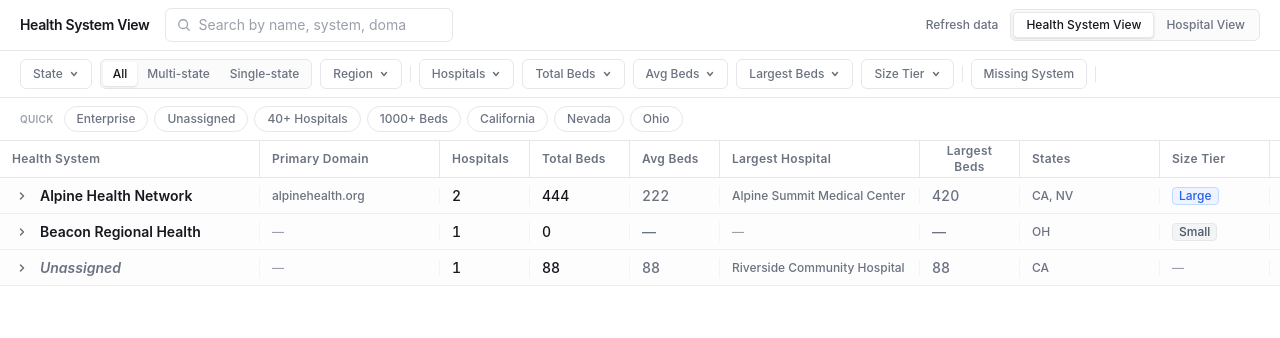
Test case: HealthSystemView with quick chips and pills › clicking Enterprise chip filters to enterprise-tier systems (VAL-FILTER-022)
Expected: the table named "Health System View" is shown, top-left (0, 141), bottom-right (1279, 286)
# Click the Enterprise chip
Click the button "Enterprise". click: (106, 119)
box: top-left (64, 106), bottom-right (148, 132)
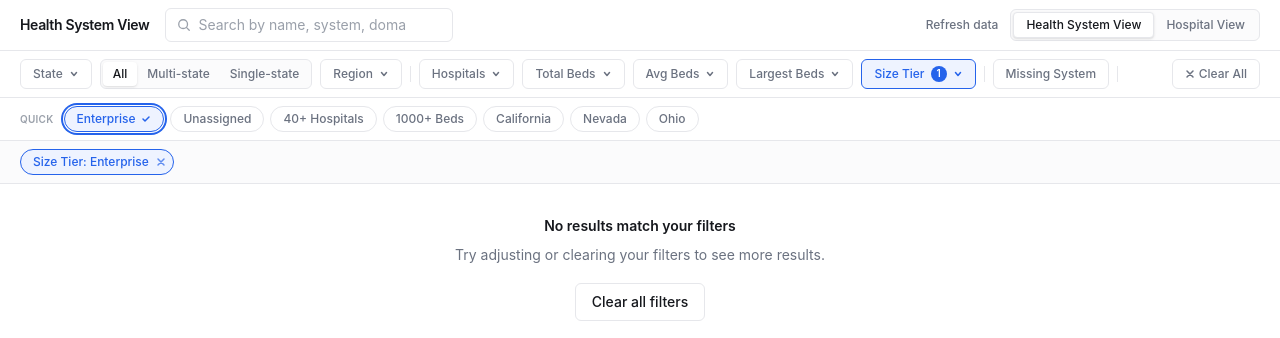
Expected: the button "Size Tier 1" is shown, top-left (861, 59), bottom-right (976, 89)
